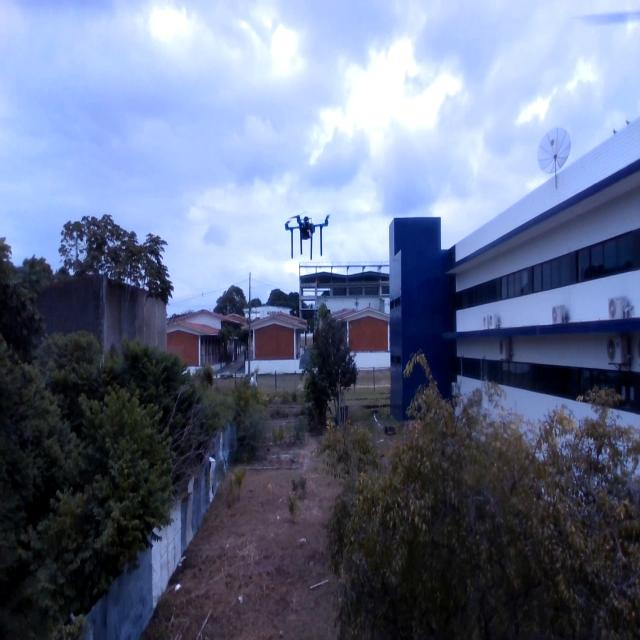-uav-: (268, 202, 338, 265)
